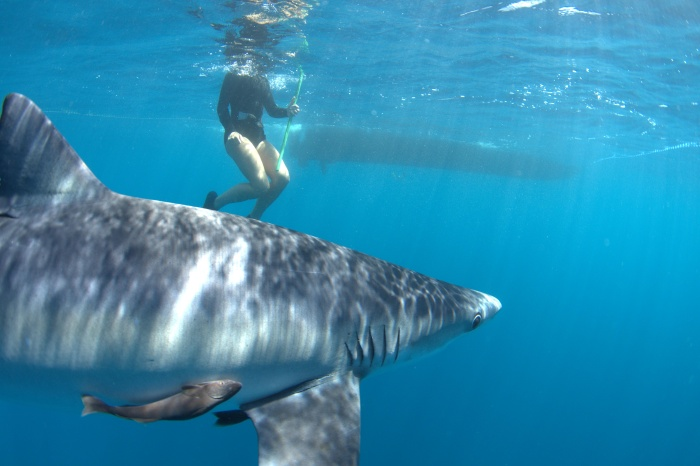Azul: (1, 84, 580, 460)
